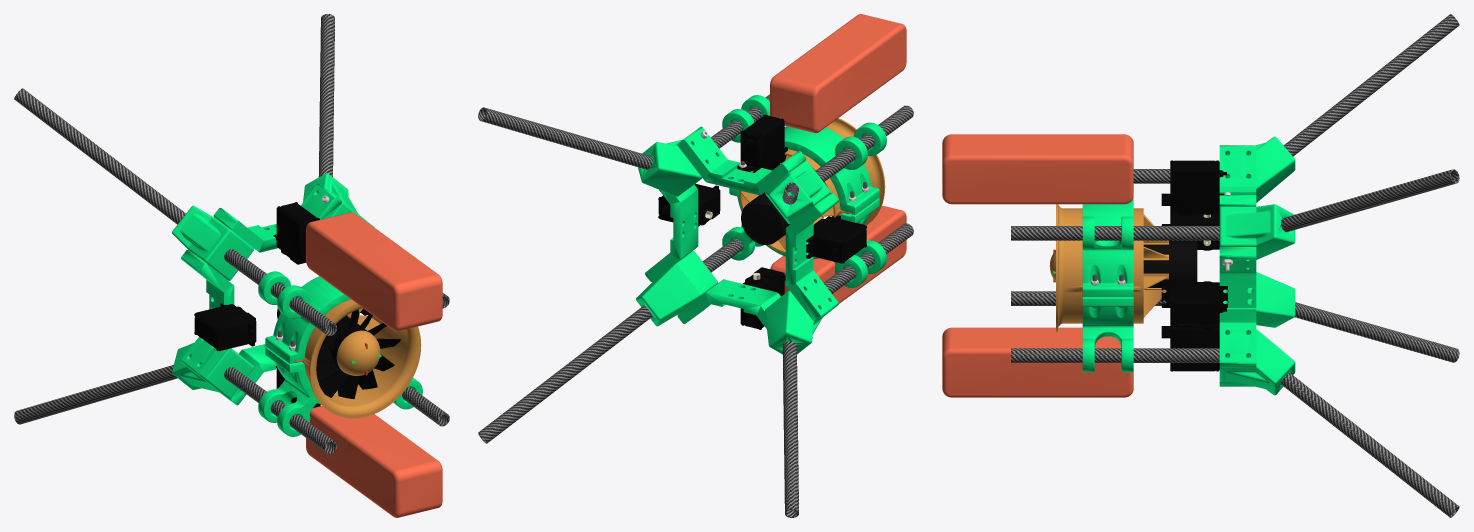
File: drone_visual.glb
3 views of the same model, side by side, from view 1: azimuth 30°, elevation 25°; view 2: azimuth 150°, elevation 25°; view 3: azimuth 270°, elevation 25° (orthographic). The views are drawn at different scales.
Visible parts, largest first — view 1: Body; view 2: Body; view 3: Body.
Boxes of the visible parts, <box> form: Body: <box>14,14,449,517</box>; Body: <box>478,14,913,517</box>; Body: <box>942,14,1459,517</box>.
Size of the model in its own units: 0.3127 by 0.3127 by 0.4216.
Materials: 16 (2 with a texture image).
